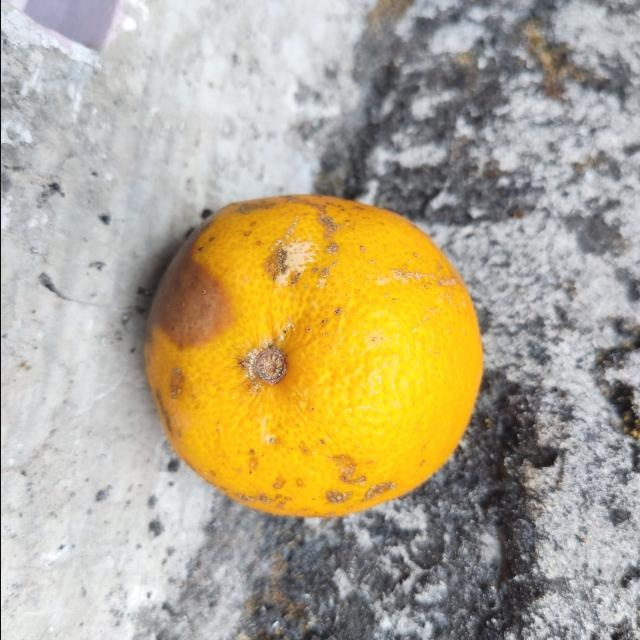agrume: (141, 195, 485, 519)
